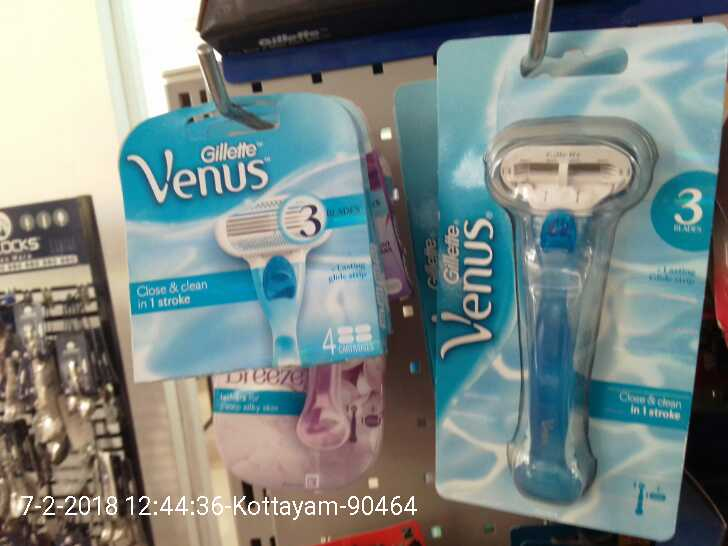venus: (119, 84, 370, 388), (479, 114, 660, 499)
